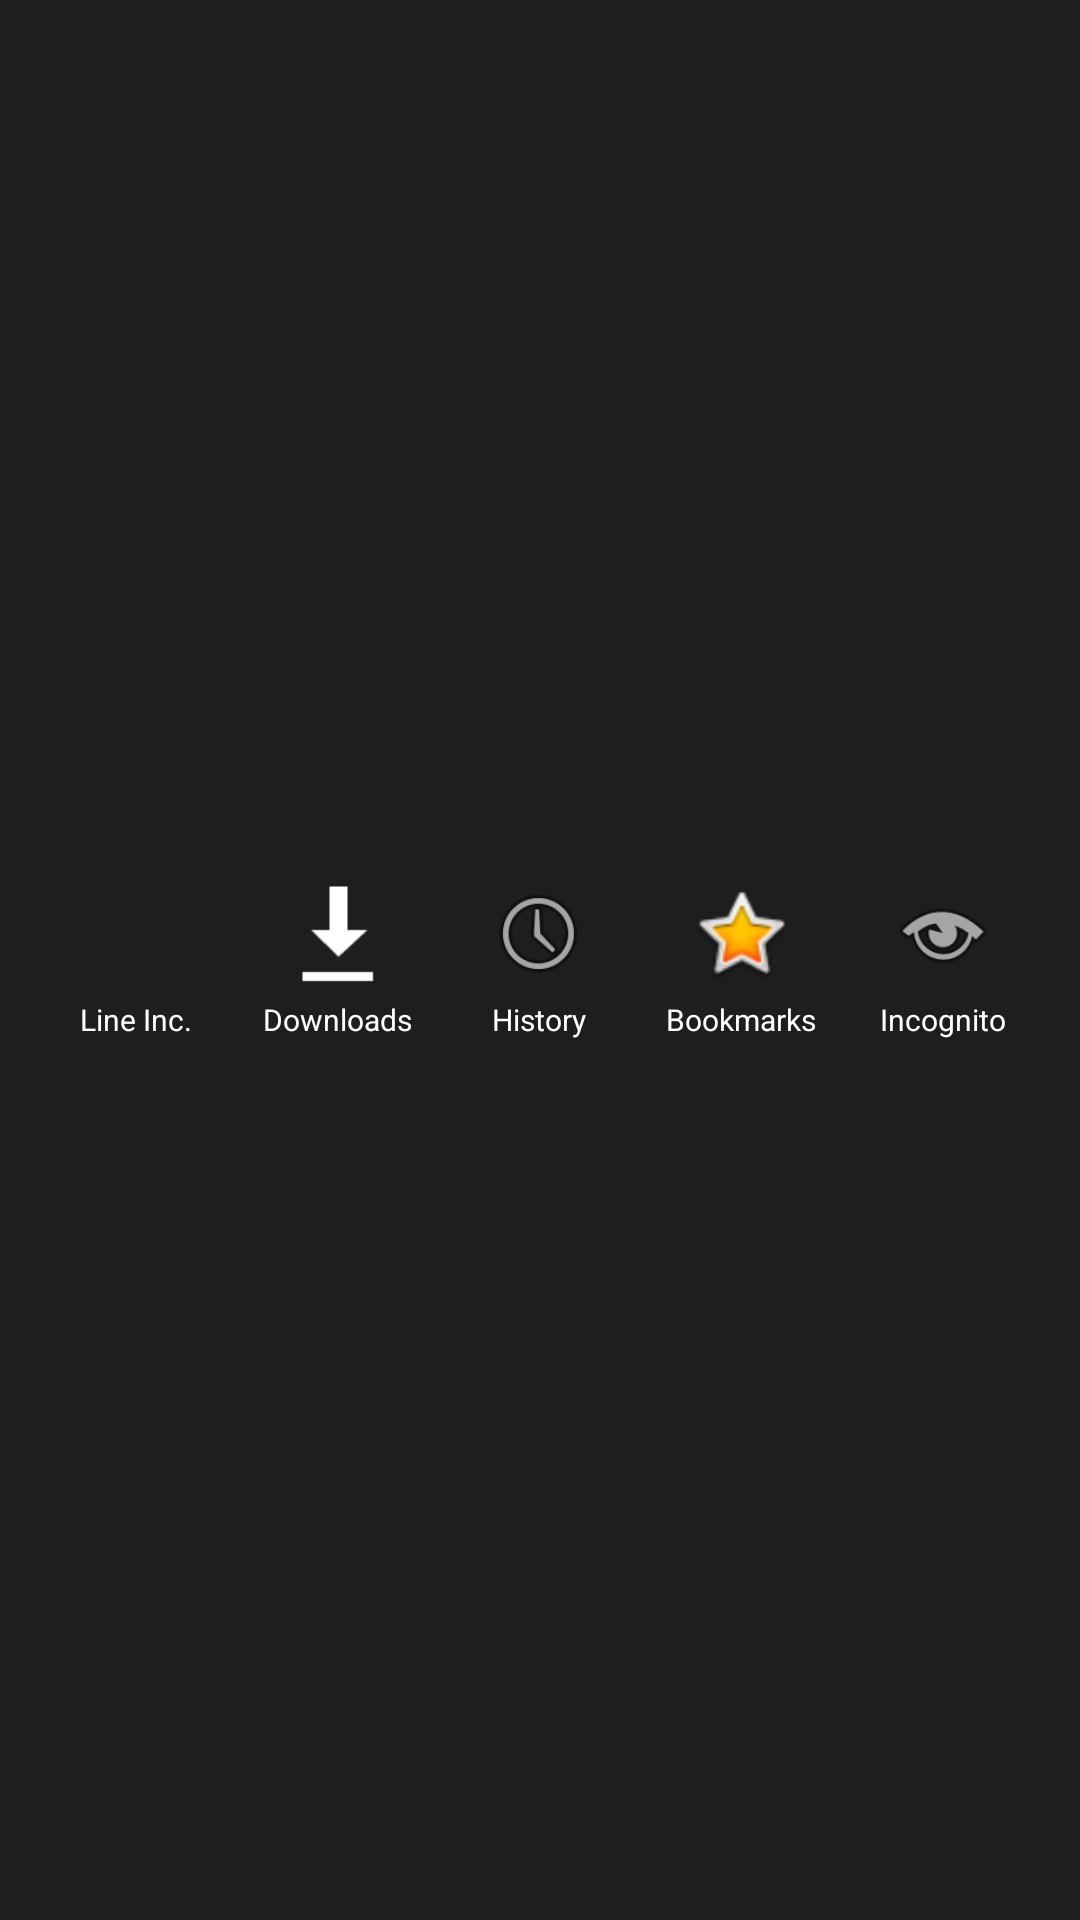

Point at icon controls on the screen. Image size 1080px x 1920px, points as (x=x, y=y).
star on: (x=742, y=933)
view: (x=943, y=935)
